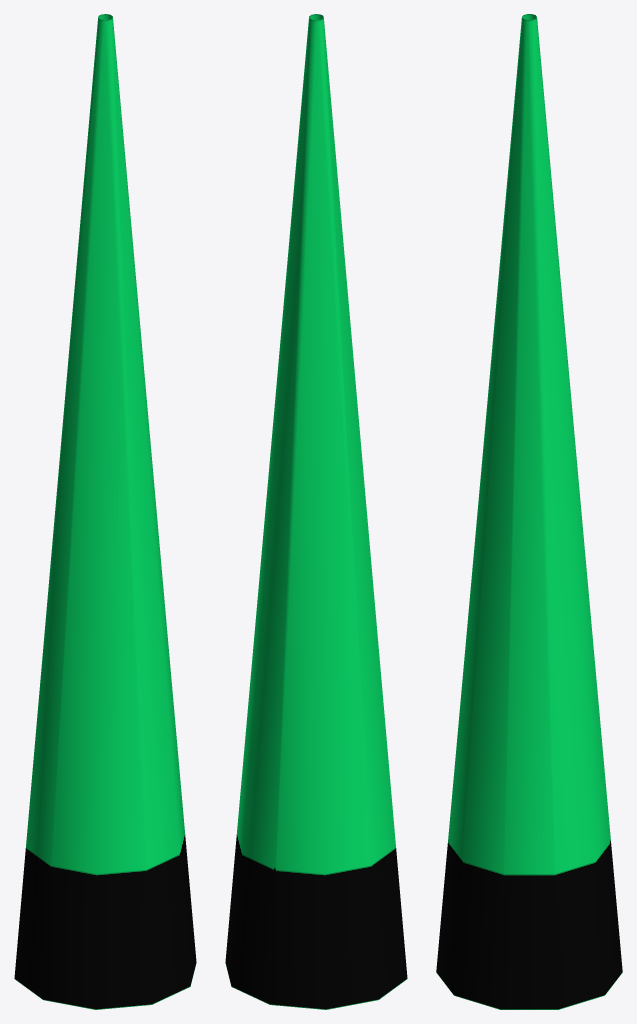
Rendered from LightCone_Green3.fbx.
3 renders of one model, left to right at view 1: azimuth 30°, elevation 25°; view 2: azimuth 150°, elevation 25°; view 3: azimuth 270°, elevation 25°, orthographic.
Visible parts, largest first — view 1: SM_Light_Cone.001; view 2: SM_Light_Cone.001; view 3: SM_Light_Cone.001.
Boxes of the visible parts, box(x1,y1,x2,y2) form: SM_Light_Cone.001: box(14, 14, 196, 1009); SM_Light_Cone.001: box(225, 14, 407, 1009); SM_Light_Cone.001: box(436, 14, 622, 1009).
Size of the model in its own units: 330 by 1960 by 347.
Materials: 1 (1 with a texture image).
